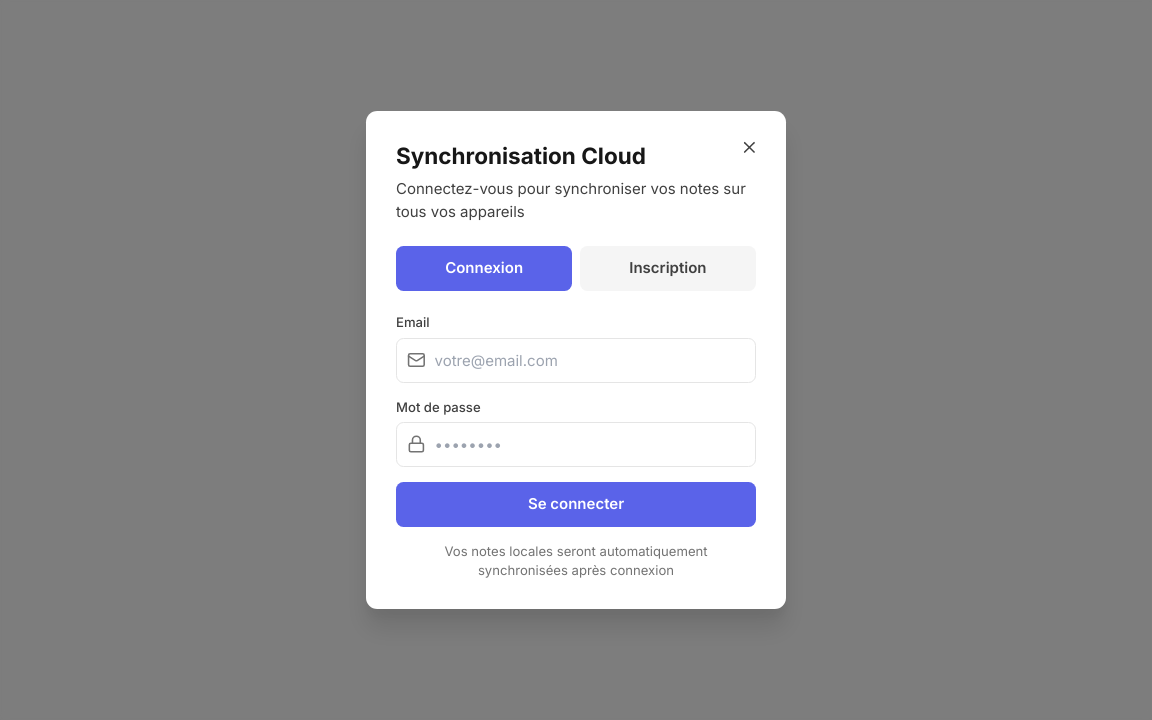
it: AuthModal › Tab Navigation › should switch back to login tab when clicking connexion
Switch to signup first
Click the button "Inscription" at [668, 268], box [580,246,756,291]
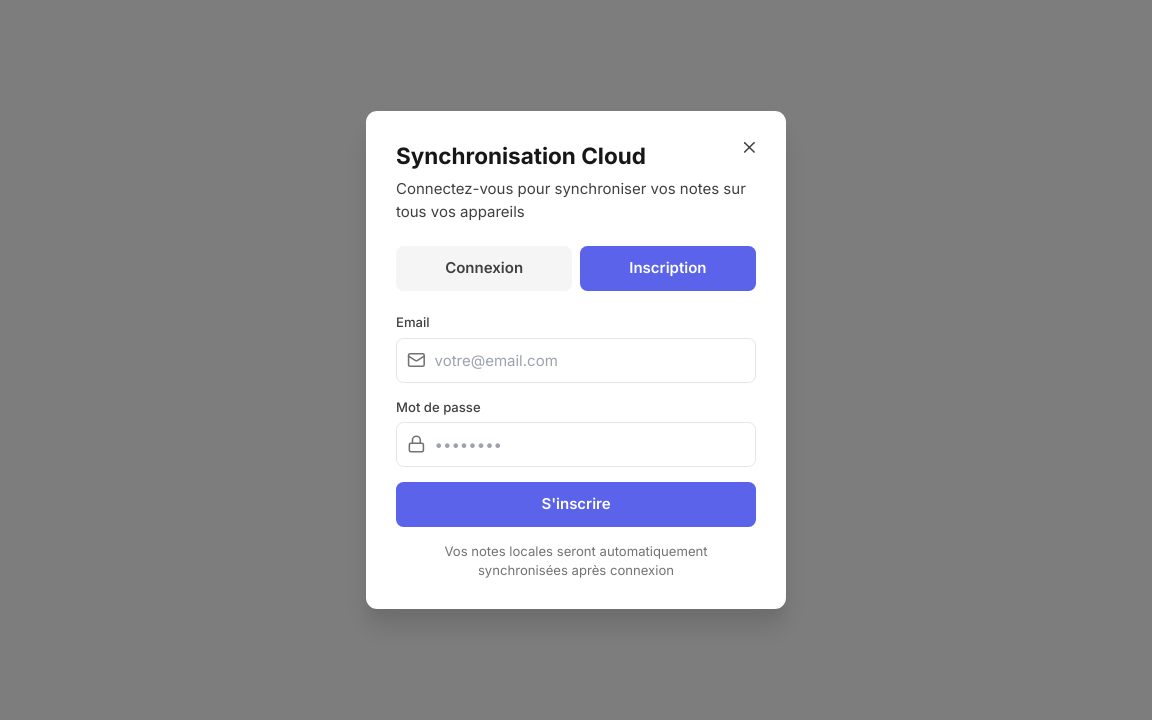
Switch back to login
Click the button "Connexion" at [484, 268], box [396,246,572,291]
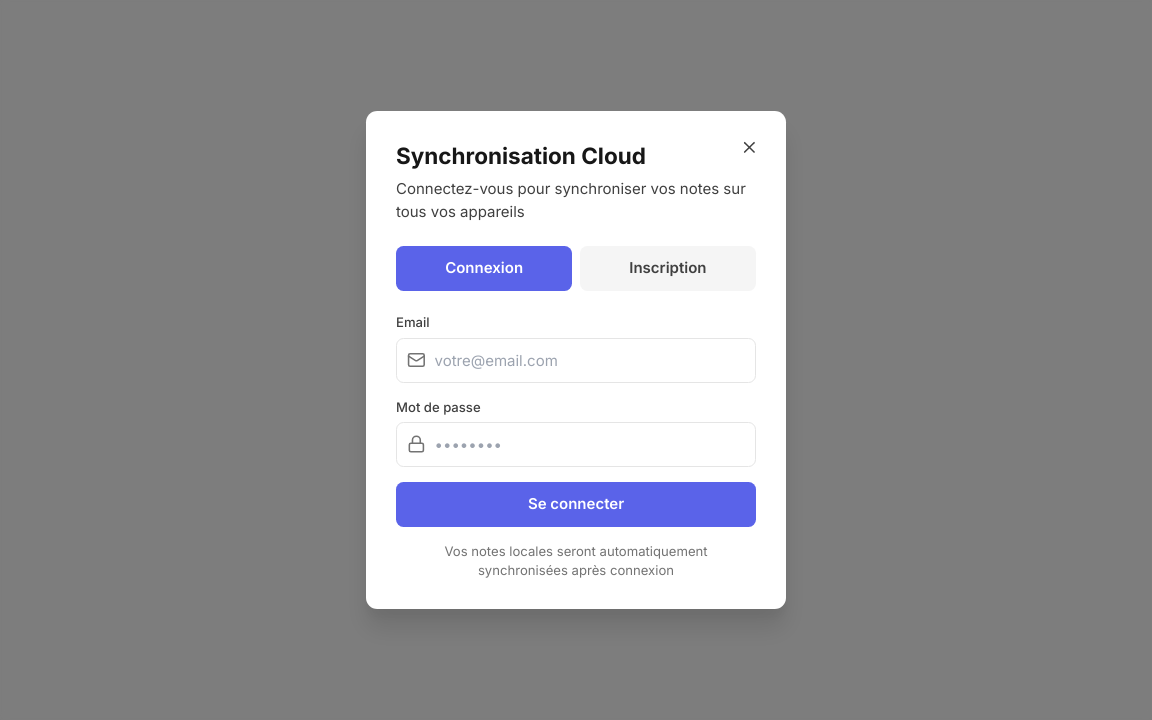
expect the button "Se connecter" is shown: met, box [396,482,756,527]
